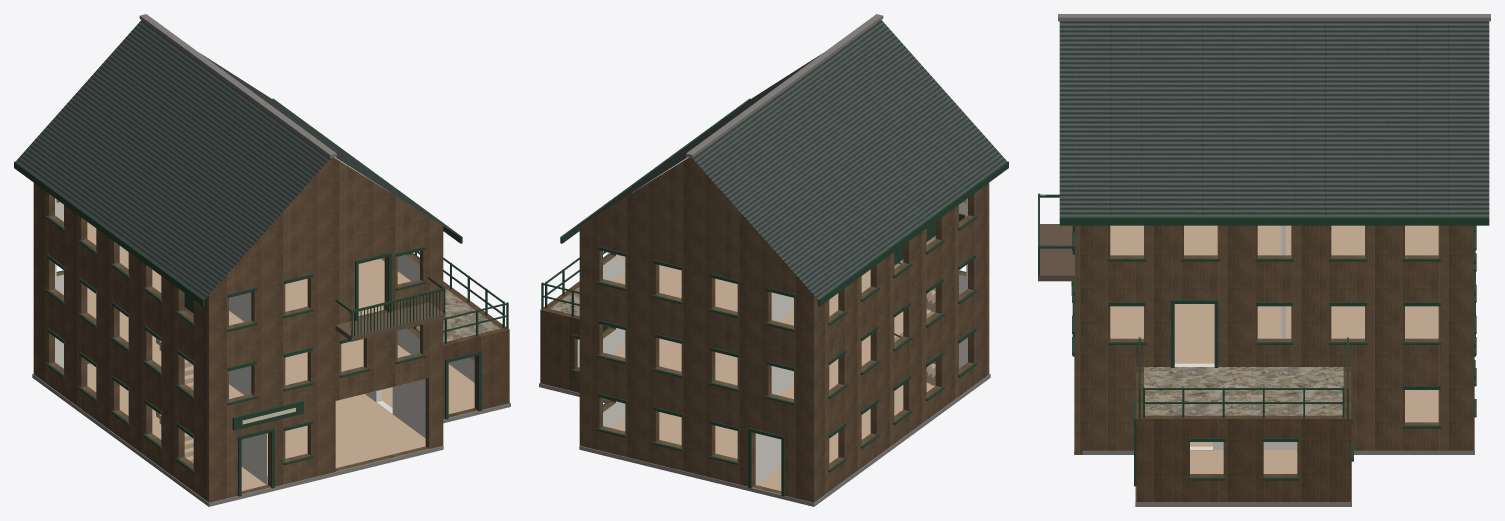
The model's file is rw-boathouse.towns-v2.lod0.glb.
3 views of the same model, side by side, from view 1: azimuth 30°, elevation 25°; view 2: azimuth 150°, elevation 25°; view 3: azimuth 270°, elevation 25° (orthographic). The views are drawn at different scales.
Visible parts, largest first — view 1: rw-boathouse; view 2: rw-boathouse; view 3: rw-boathouse.
Boxes of the visible parts, box(x1,y1,x2,y2) form: rw-boathouse: box(14, 14, 510, 506); rw-boathouse: box(539, 14, 1008, 506); rw-boathouse: box(1038, 14, 1490, 506).
Size of the model in its own units: 14.63 by 13.46 by 14.78.
6 materials, 3 textured.
